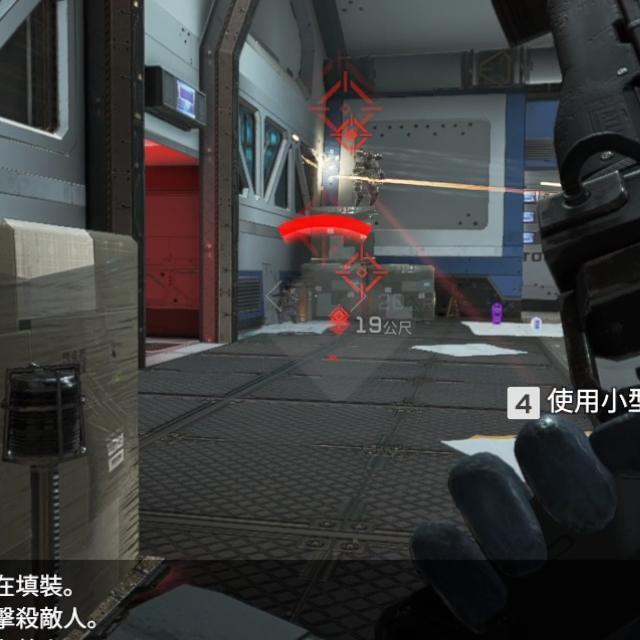avatar: (350, 149, 387, 210)
